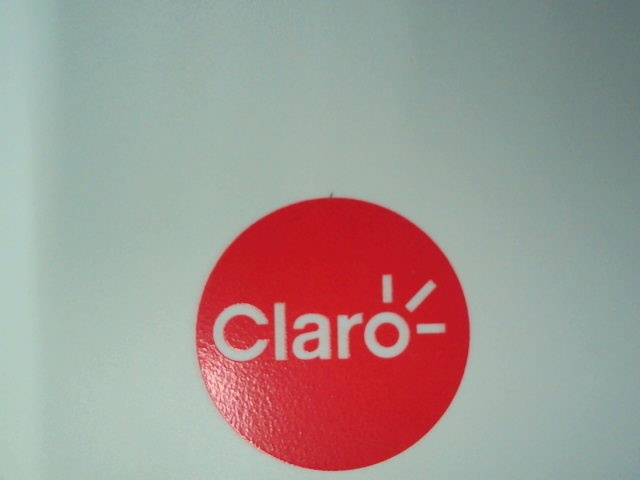BC_ClaorRed: (177, 183, 503, 475)
